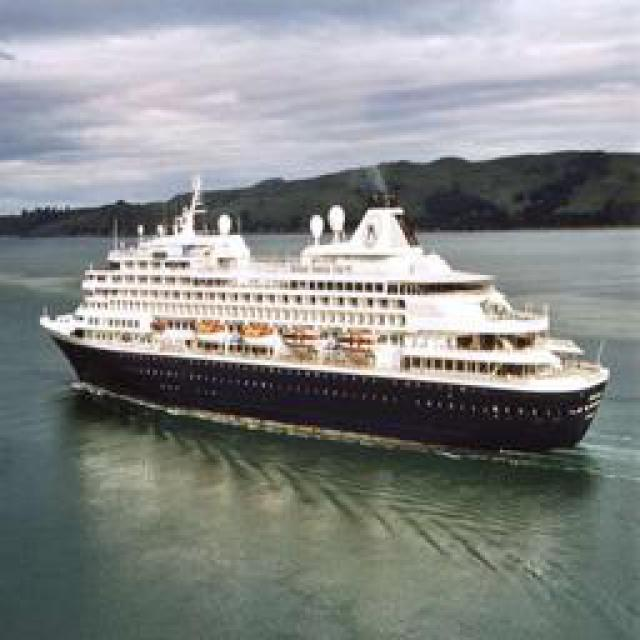Ship: (35, 181, 618, 446)
